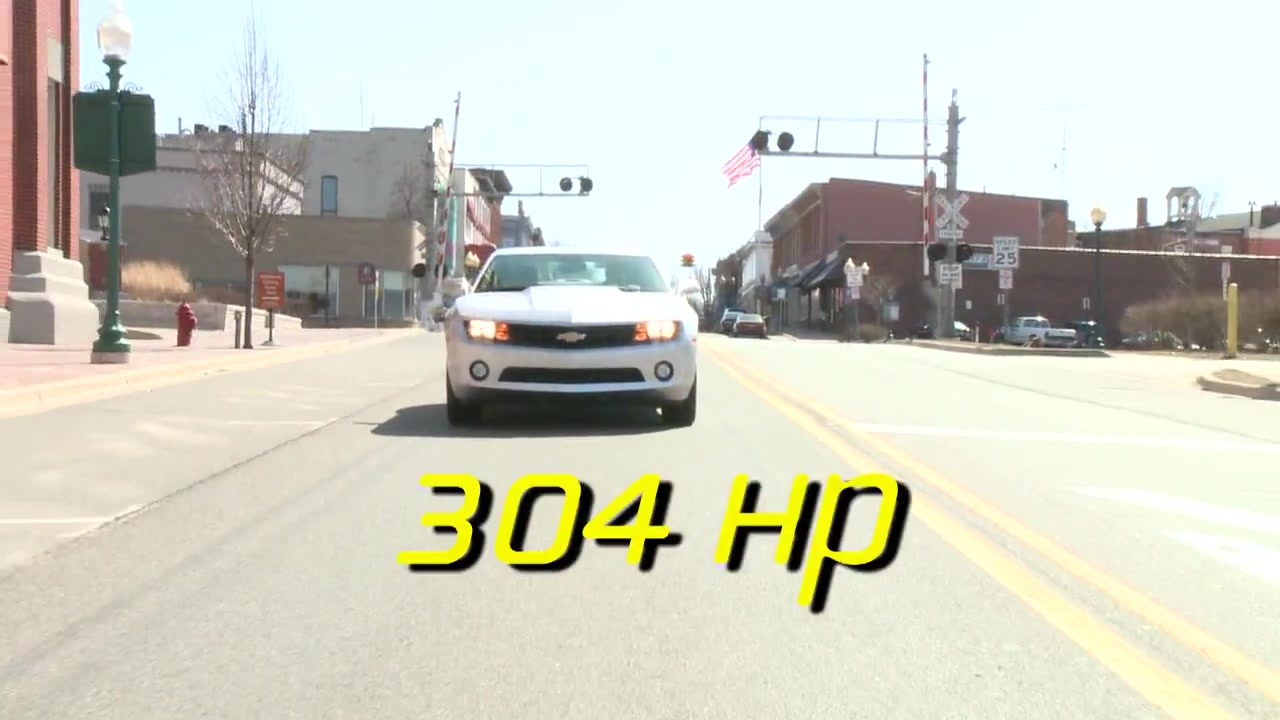car: (437, 252, 706, 427)
